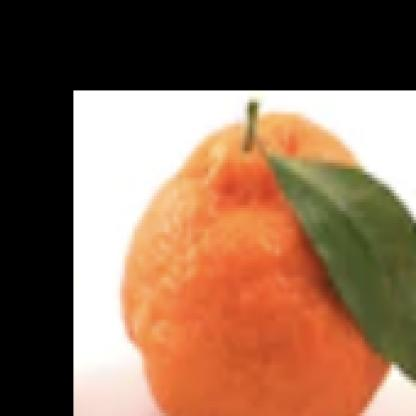fresh: (123, 100, 400, 416)
